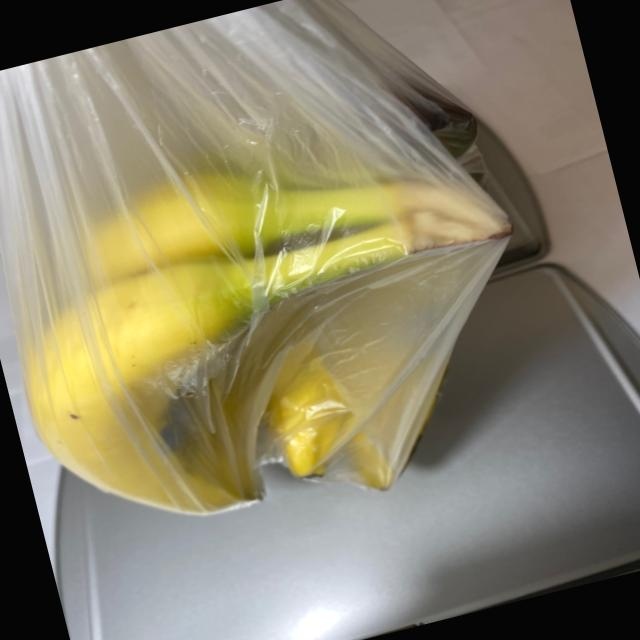banana: (0, 71, 571, 567)
